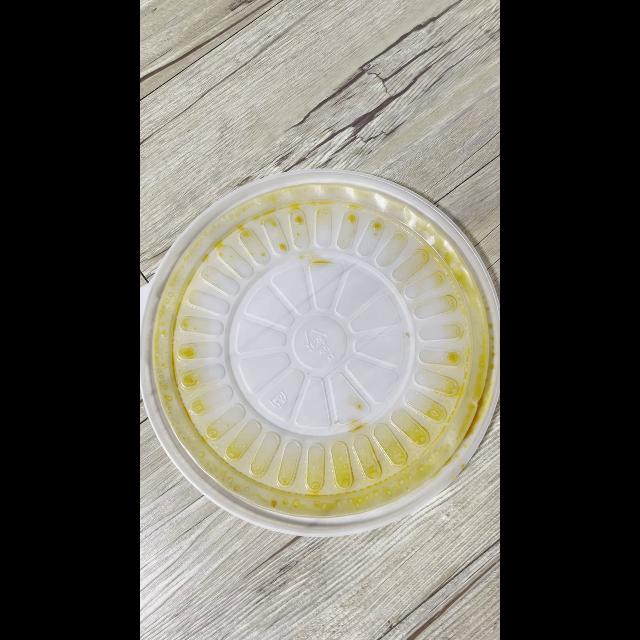dirty: (148, 177, 500, 528)
